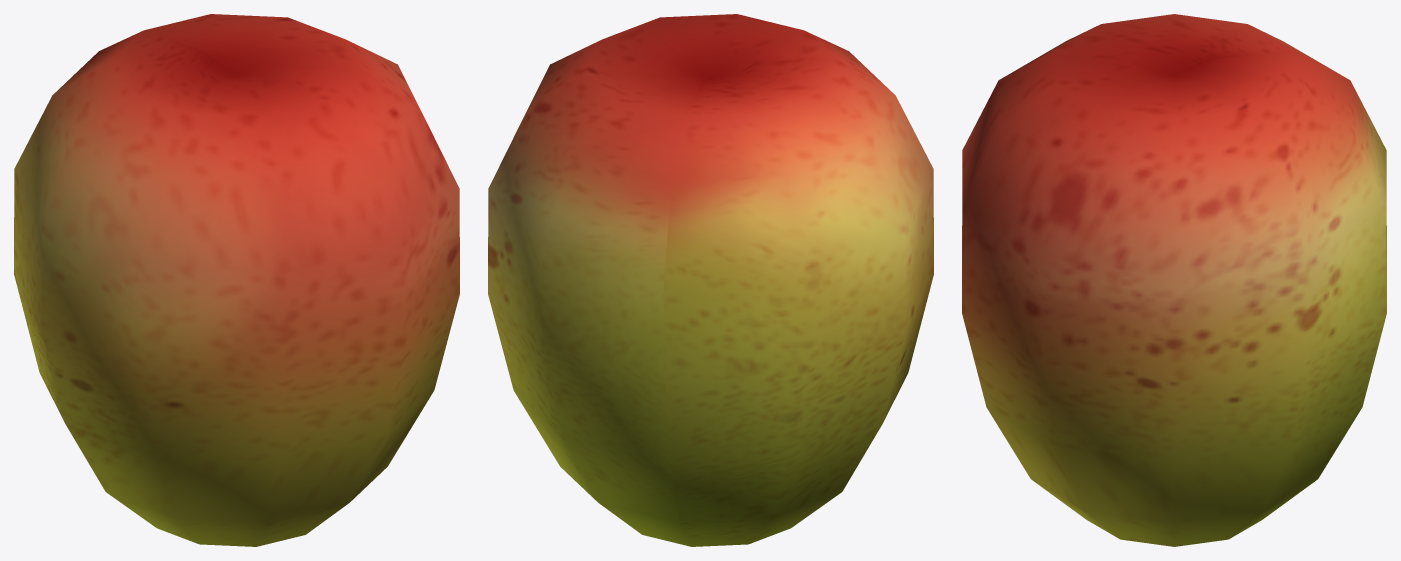
File: Mango_Red.fbx
3 renders of one model, left to right at view 1: azimuth 30°, elevation 25°; view 2: azimuth 150°, elevation 25°; view 3: azimuth 270°, elevation 25°, orthographic.
Visible parts, largest first — view 1: Mango_Red; view 2: Mango_Red; view 3: Mango_Red.
Boxes of the visible parts, left/top/right/bottom form: Mango_Red: left=14, top=14, right=459, bottom=546; Mango_Red: left=488, top=14, right=933, bottom=546; Mango_Red: left=962, top=14, right=1386, bottom=546.
Size of the model in its own units: 35.33 by 41.26 by 33.6.
